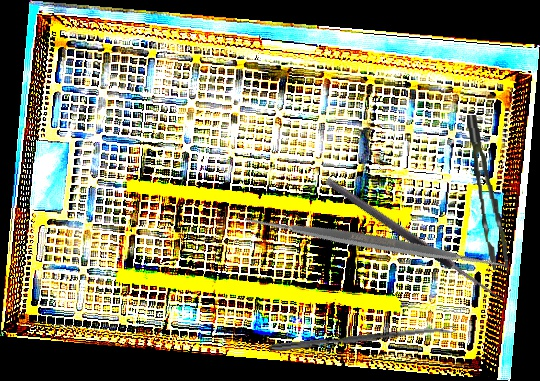Hook Surgical: (323, 167, 513, 306)
Spatula Surgical: (238, 106, 512, 380)
Surgical Spoon: (269, 325, 456, 353)
Tissue Forceps: (466, 113, 509, 271)
